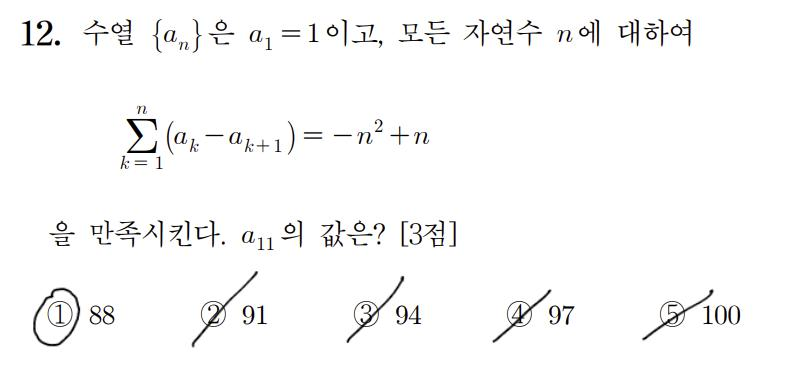1: (32, 286, 82, 348)
paper: (44, 299, 74, 330), (199, 299, 229, 330), (352, 299, 382, 330), (504, 299, 534, 330), (657, 299, 687, 330)
